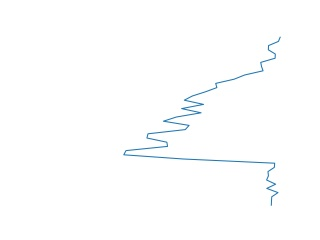proximalDeepseaFan: (120, 36, 282, 209)
